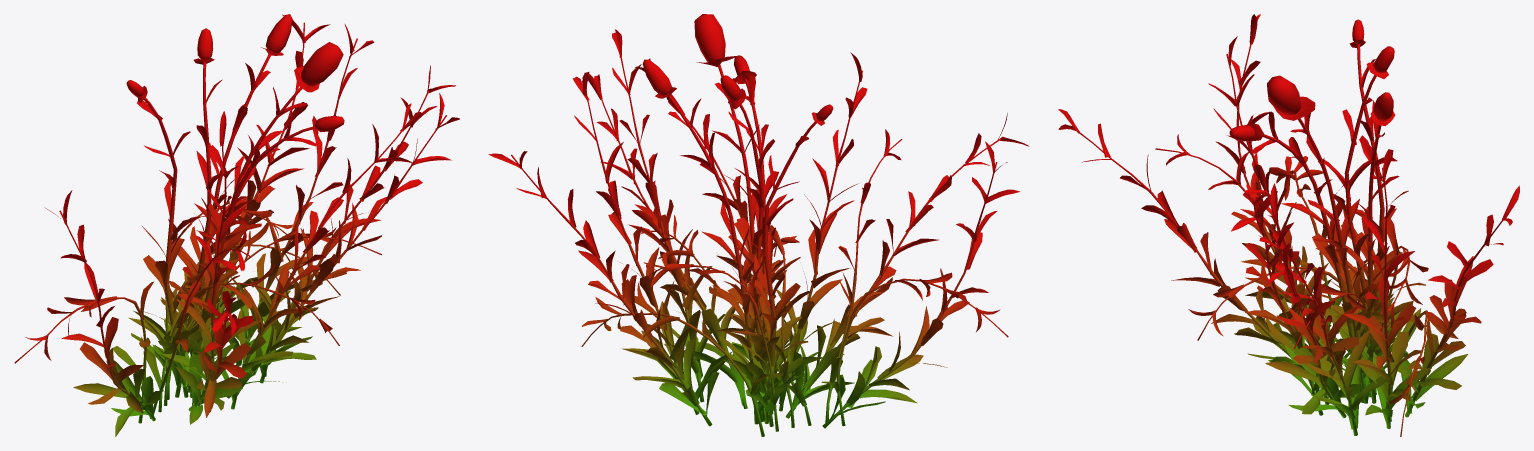
Rendered from Var2_LOD0.fbx.
The picture shows the model from 3 angles, left to right: view 1: azimuth 30°, elevation 25°; view 2: azimuth 150°, elevation 25°; view 3: azimuth 270°, elevation 25°; orthographic projection. The views are drawn at different scales.
Parts seen in each view (by area): view 1: _ls7c_Var2_LOD0; view 2: _ls7c_Var2_LOD0; view 3: _ls7c_Var2_LOD0.
Boxes of the visible parts, left/top/right/bottom form: _ls7c_Var2_LOD0: left=14, top=14, right=459, bottom=436; _ls7c_Var2_LOD0: left=488, top=14, right=1029, bottom=436; _ls7c_Var2_LOD0: left=1058, top=14, right=1519, bottom=436.
Bounding box in the file's own units: 29.44 × 23.59 × 26.02.
